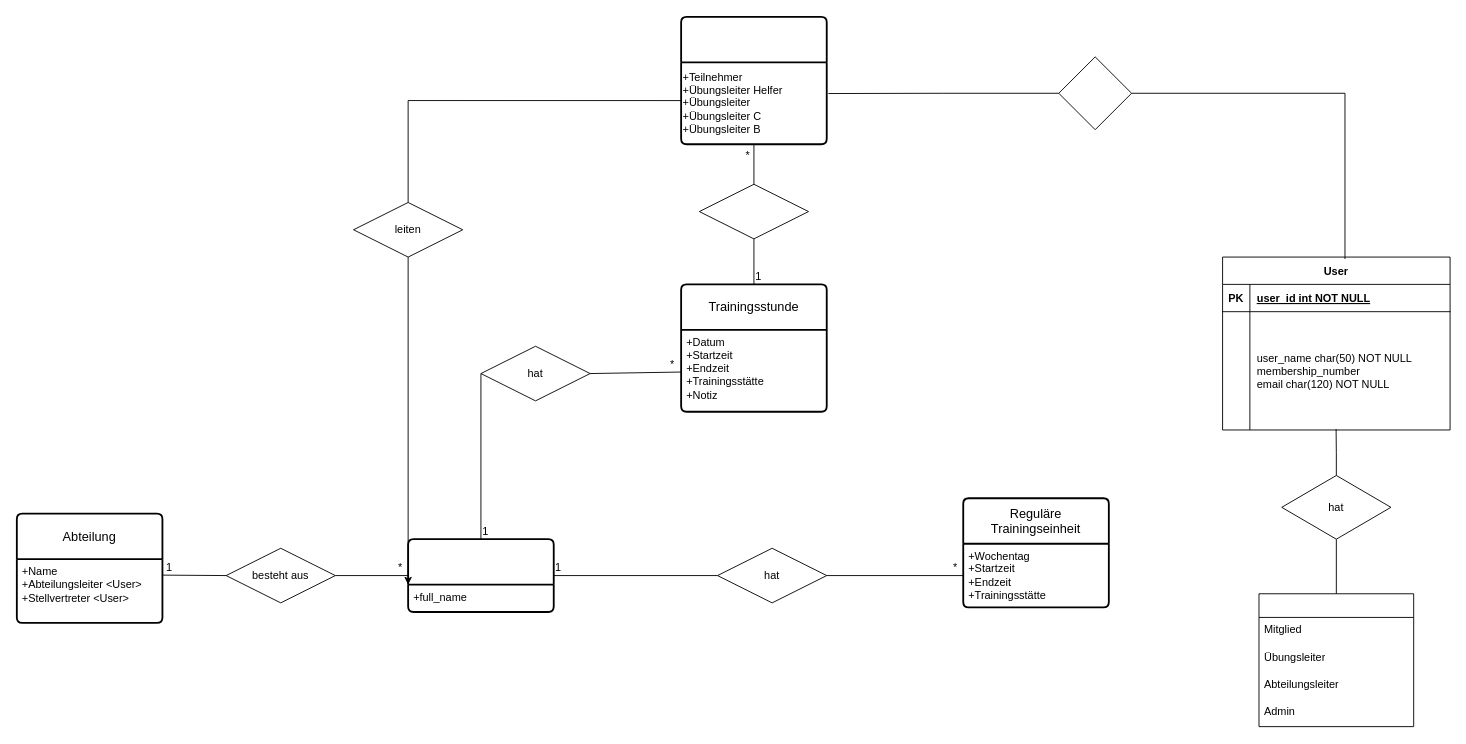
The diagram is 1466 pixels wide and 744 high, and some of its shapes have lost their labels. Here are the shapes that lost their labels. From the top down, the box of each, then its label:
(680, 15, 827, 145): Trainer
(1058, 56, 1132, 130): ist
(698, 183, 809, 239): nehmen teil
(407, 538, 554, 612): Sportgruppe
(1258, 593, 1414, 727): Rechtelevel
